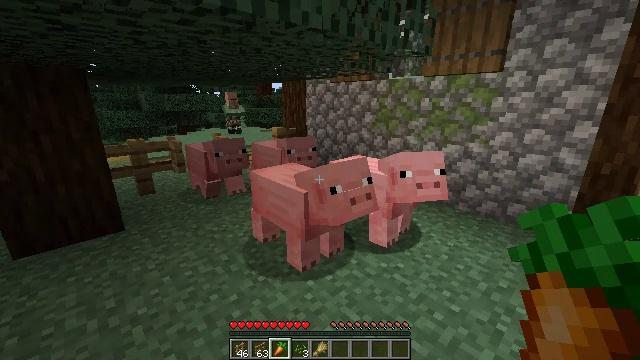pig: (252, 159, 379, 267), (347, 151, 448, 246), (185, 139, 248, 196), (251, 135, 319, 179)
